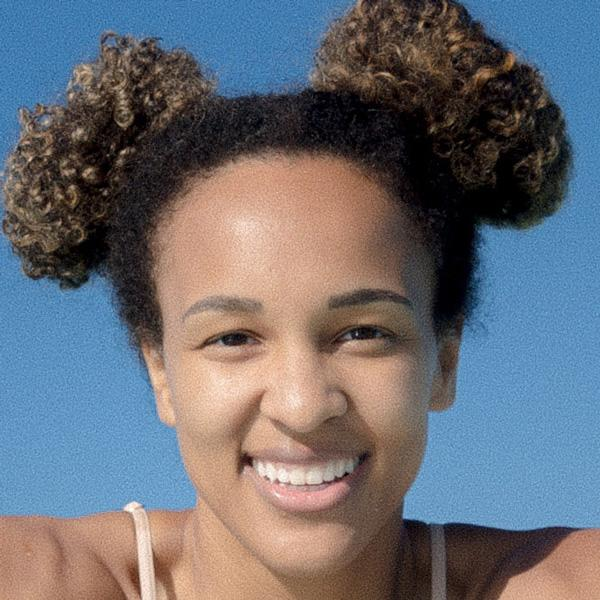Eyes: (191, 320, 274, 363), (322, 315, 404, 358)
